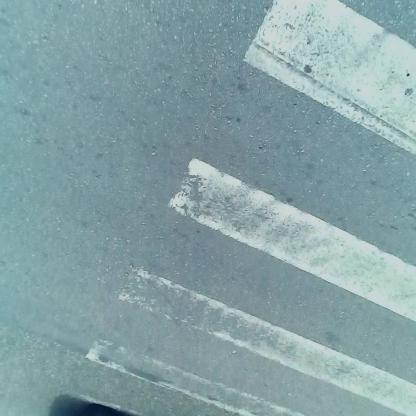crosswalk: (72, 9, 413, 399)
